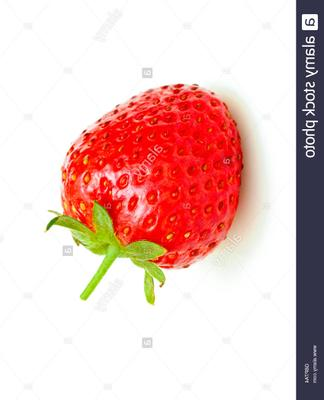strawberry: (0, 0, 324, 400)
